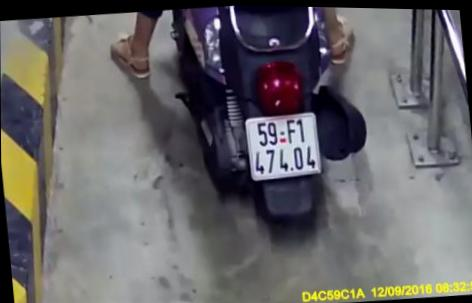LP: (244, 108, 324, 182)
